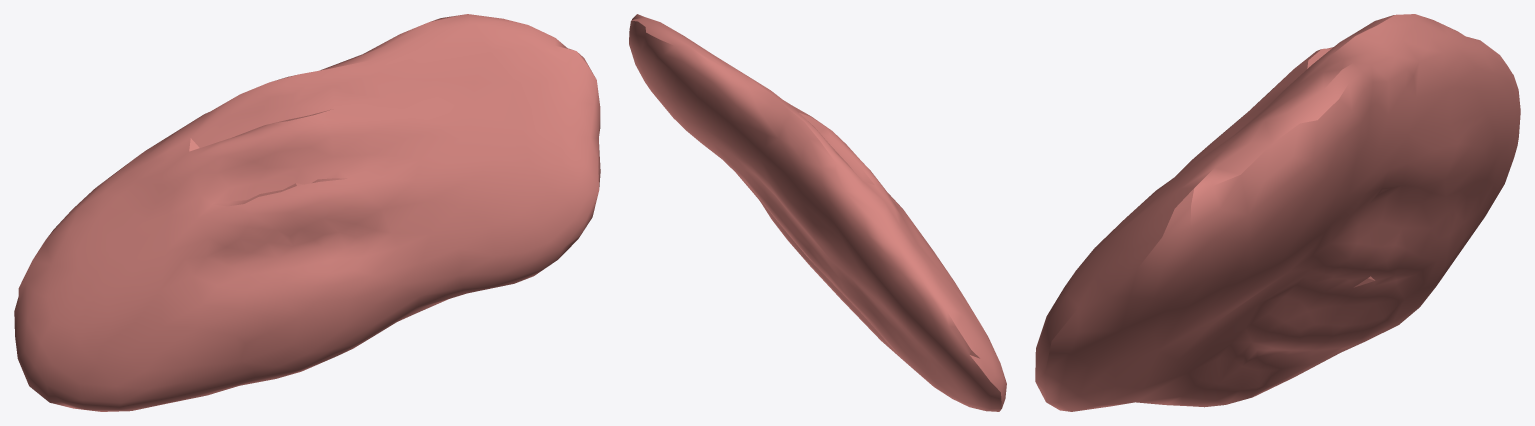
Rendered from fma48981_mm1291m.glb.
3 renders of one model, left to right at view 1: azimuth 30°, elevation 25°; view 2: azimuth 150°, elevation 25°; view 3: azimuth 270°, elevation 25°, orthographic. The views are drawn at different scales.
Parts seen in each view (by area): view 1: FMA48981_MM1291M; view 2: FMA48981_MM1291M; view 3: FMA48981_MM1291M.
Part boxes in pixels (<box>): FMA48981_MM1291M: <box>14,14,600,411</box>; FMA48981_MM1291M: <box>629,14,1006,411</box>; FMA48981_MM1291M: <box>1035,14,1520,411</box>.
Bounding box in the file's own units: 0.0111 × 0.00689 × 0.00576.
